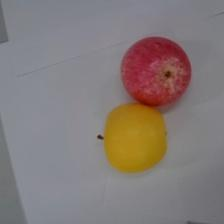red: (119, 36, 192, 108)
yellow: (102, 102, 167, 174)
